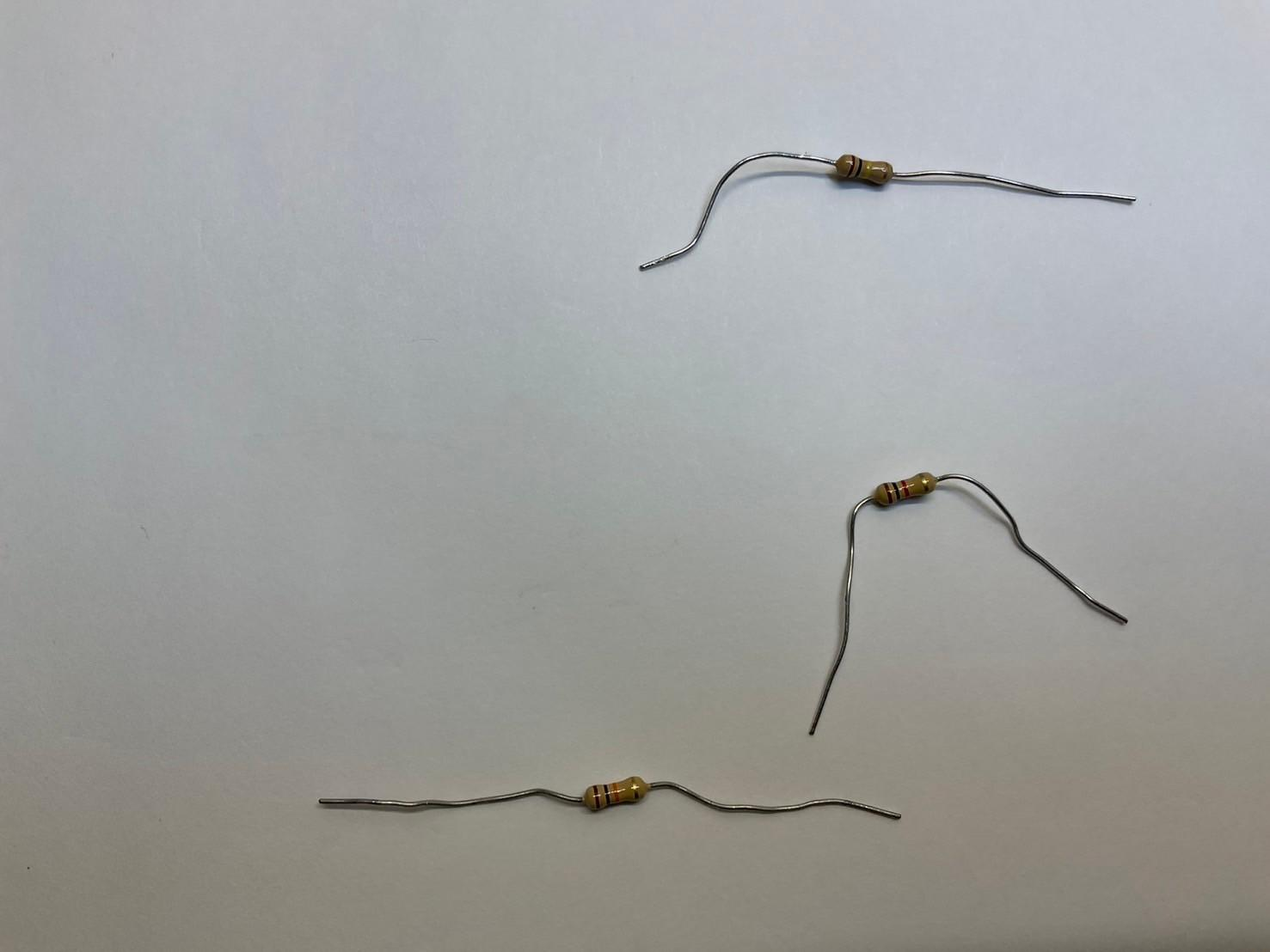resistor: (582, 772, 651, 812), (873, 471, 942, 508), (830, 152, 895, 189)
